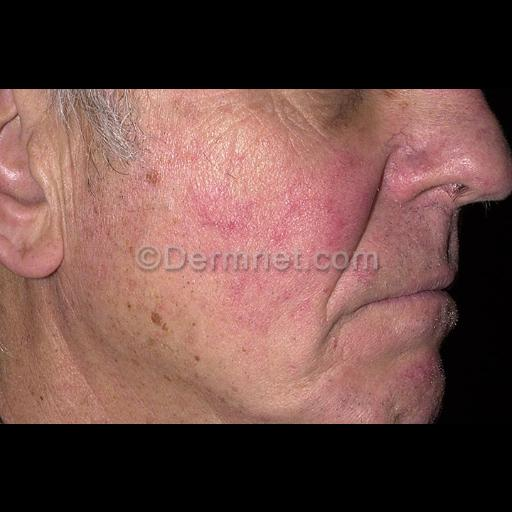Skin_Lesion: (188, 202, 240, 232), (222, 268, 252, 306), (401, 354, 431, 390), (214, 388, 242, 414), (150, 305, 174, 335), (267, 217, 291, 245), (246, 308, 268, 338), (330, 148, 358, 170), (320, 214, 348, 234), (144, 164, 164, 190), (169, 90, 189, 110), (189, 348, 209, 366)
